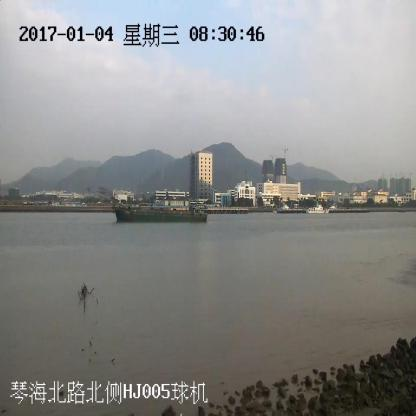Bulk Carrier: (88, 189, 206, 220)
